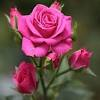rose: (12, 5, 75, 63), (12, 61, 37, 92), (69, 47, 92, 70)
